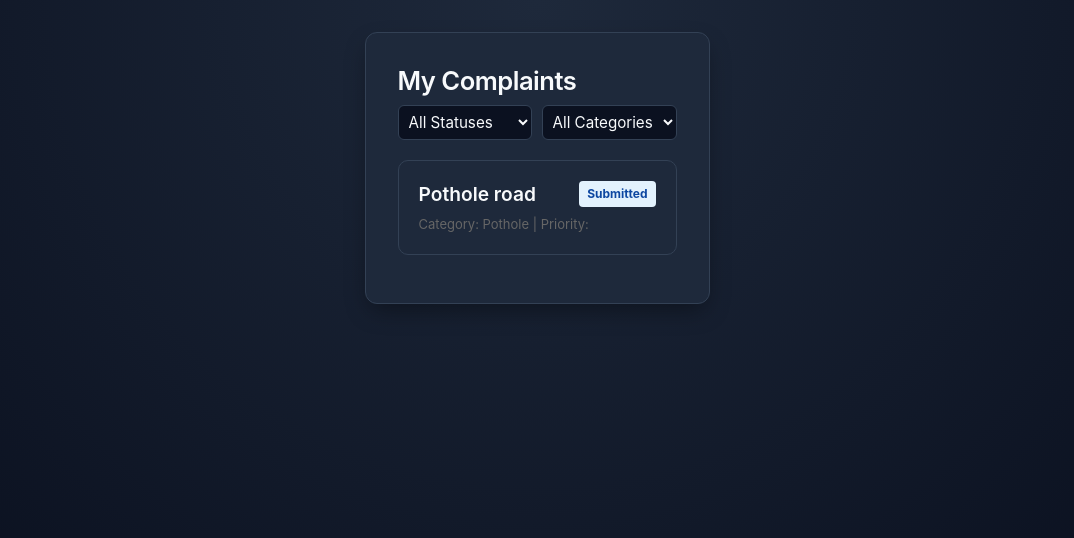
Scenario: MyComplaints filters › filters complaints by status and category and clears filters
Expected: the heading "Pothole road" is shown, [418,182,536,206]
// Select status Resolved
Select "Resolved" in the dropdown named "Filter by status" at (464, 122), box [398,105,532,140]
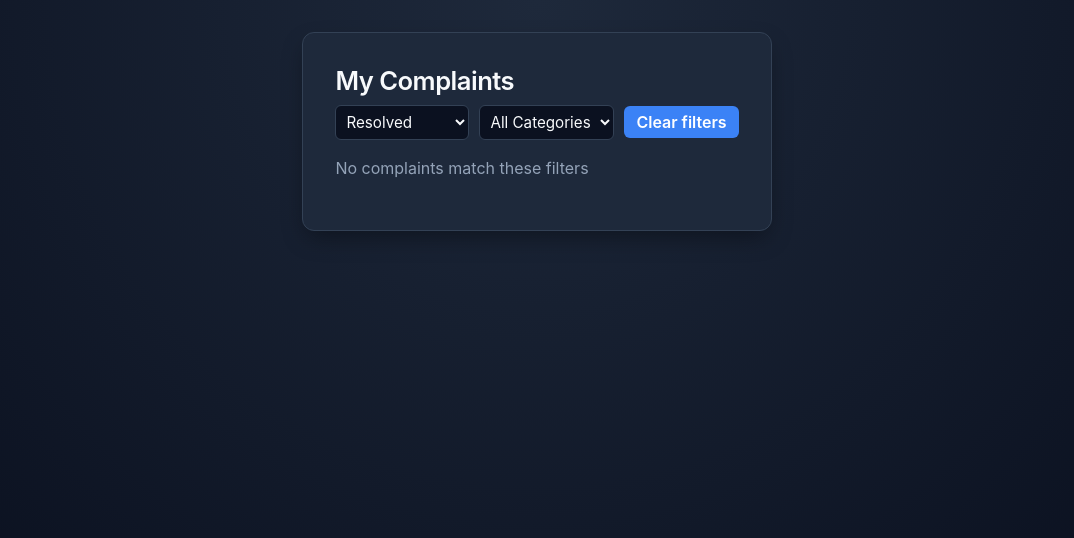
Result: the text "No complaints match these filters" is shown at [335,158,589,178]
// Clear filters button appears and resets
Click the button "Clear filters".
click(682, 122)  # box [624,106,739,138]
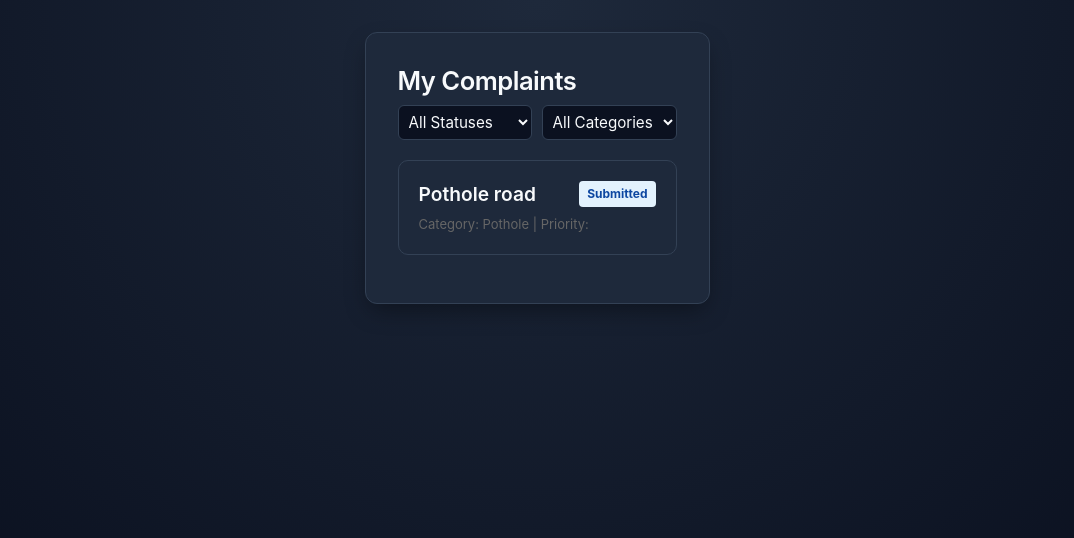
Result: the heading "Pothole road" is shown at [418,182,536,206]
